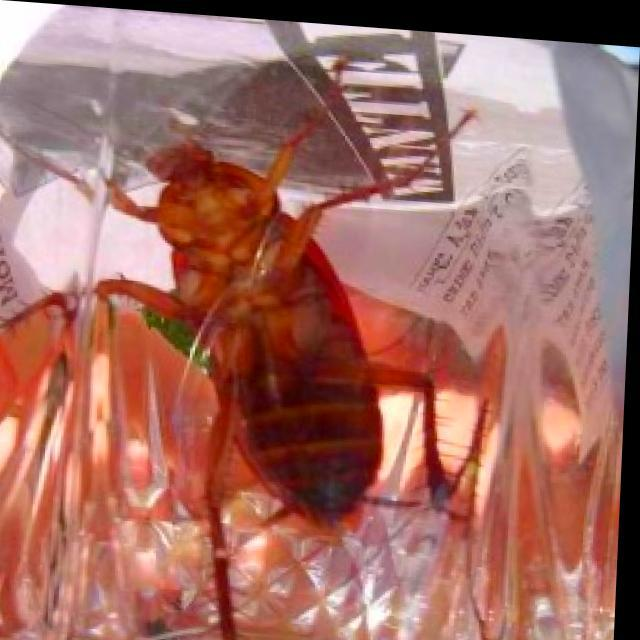cockroach: (90, 81, 484, 640)
